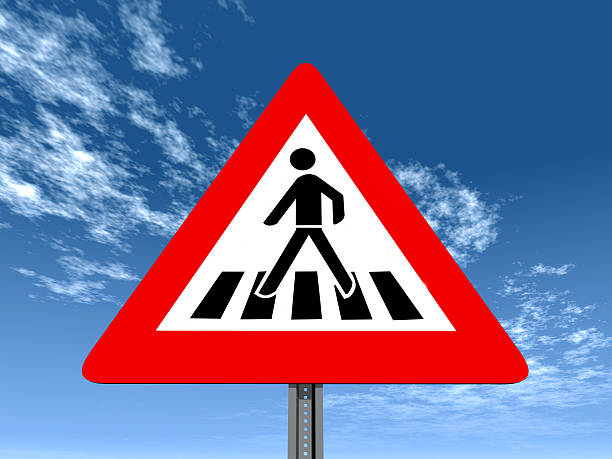pedestrian: (148, 110, 449, 375)
